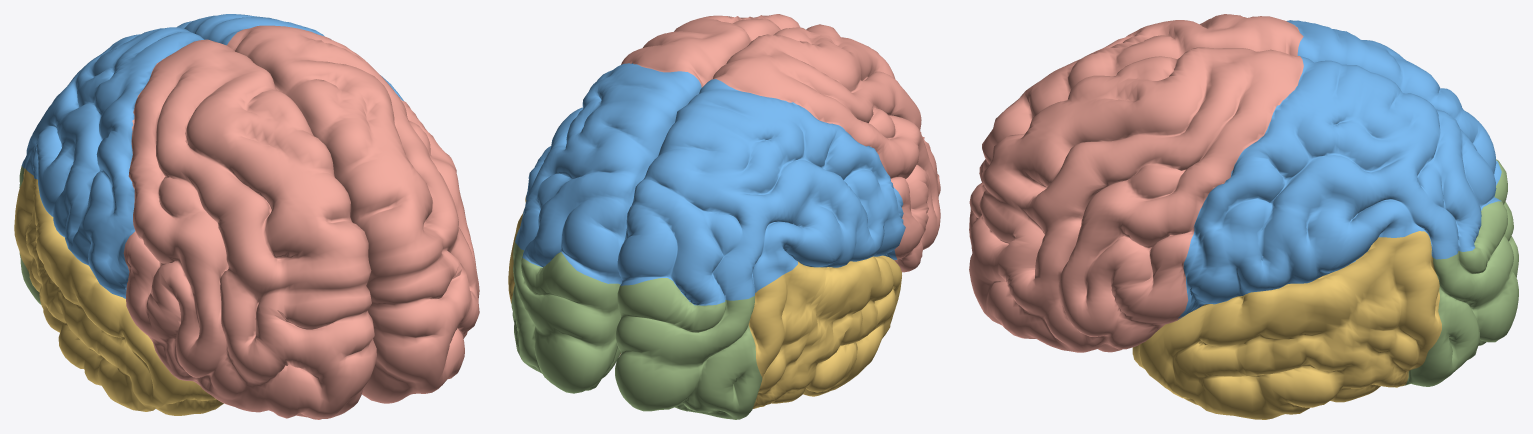
File: naozi.FBX
3 renders of one model, left to right at view 1: azimuth 30°, elevation 25°; view 2: azimuth 150°, elevation 25°; view 3: azimuth 270°, elevation 25°, orthographic. The views are drawn at different scales.
Visible parts, largest first — view 1: Female_Nervous_Cerebrum_Multicolor; view 2: Female_Nervous_Cerebrum_Multicolor; view 3: Female_Nervous_Cerebrum_Multicolor.
Part boxes in pixels (left/top/right/bottom): Female_Nervous_Cerebrum_Multicolor: left=14, top=14, right=479, bottom=419; Female_Nervous_Cerebrum_Multicolor: left=508, top=14, right=940, bottom=419; Female_Nervous_Cerebrum_Multicolor: left=969, top=14, right=1518, bottom=419.
Bounding box in the file's own units: 12.11 × 11.16 × 17.15.
